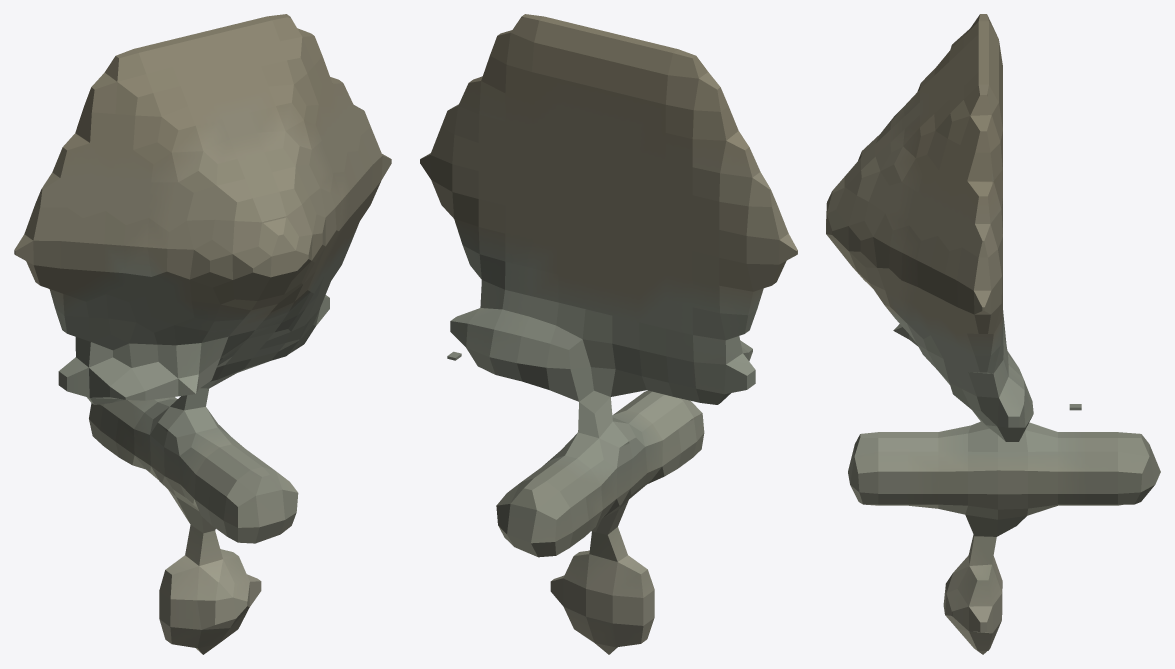
Rendered from vineMonster.glb.
3 renders of one model, left to right at view 1: azimuth 30°, elevation 25°; view 2: azimuth 150°, elevation 25°; view 3: azimuth 270°, elevation 25°, orthographic. The views are drawn at different scales.
Parts seen in each view (by area): view 1: geometry_0; view 2: geometry_0; view 3: geometry_0.
Boxes of the visible parts, left/top/right/bottom form: geometry_0: left=14, top=14, right=391, bottom=654; geometry_0: left=420, top=14, right=797, bottom=654; geometry_0: left=826, top=14, right=1160, bottom=654.
Size of the model in its own units: 0.5863 by 0.9232 by 0.4656.
1 material, 1 textured.
